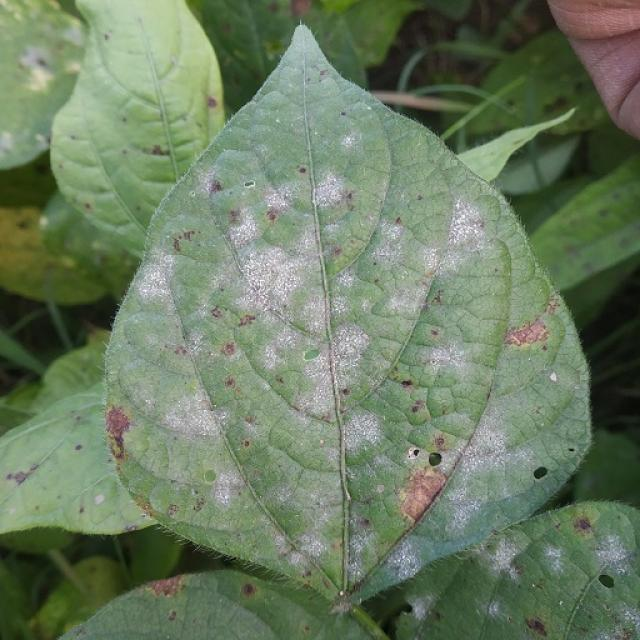Blackgram: (0, 26, 590, 614)
Powdery_Mildew: (435, 417, 529, 514), (237, 231, 319, 322), (363, 217, 427, 293), (160, 388, 218, 440), (381, 535, 431, 585), (445, 199, 490, 252), (296, 361, 341, 414), (587, 526, 632, 576), (482, 531, 530, 577), (417, 341, 468, 380), (137, 256, 176, 304), (17, 44, 57, 88), (226, 203, 264, 249), (343, 412, 382, 453), (333, 326, 367, 368), (210, 466, 244, 506), (260, 184, 293, 222), (312, 170, 342, 210), (539, 541, 567, 572), (487, 598, 511, 621), (287, 550, 307, 568), (0, 130, 14, 153), (35, 133, 47, 146), (39, 215, 49, 230), (94, 493, 105, 505), (170, 55, 179, 68), (549, 372, 558, 383), (376, 484, 385, 494), (275, 118, 281, 124), (558, 600, 564, 606), (213, 402, 218, 408), (367, 106, 372, 111)
